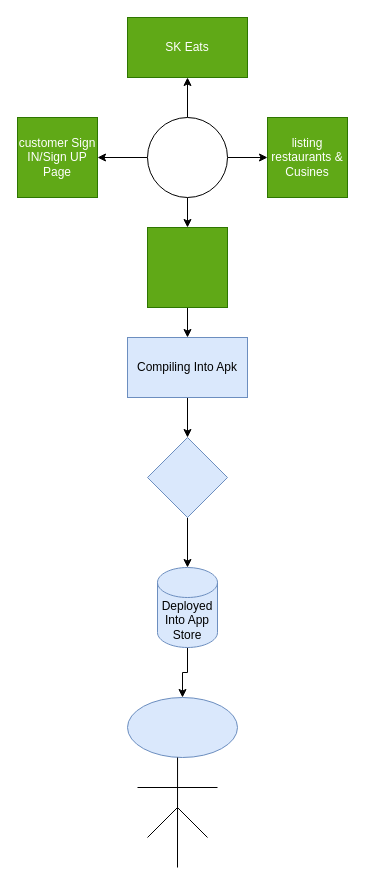
Image size: 365x886. Some labels were removed from this diagram. Here are the shapes that lost their labels. From the top down, the box of each, then its label:
(146, 116, 228, 198): Design UI/UX
(146, 226, 228, 308): Checkout Pages & RTS
(146, 436, 228, 518): No Bugs Found
